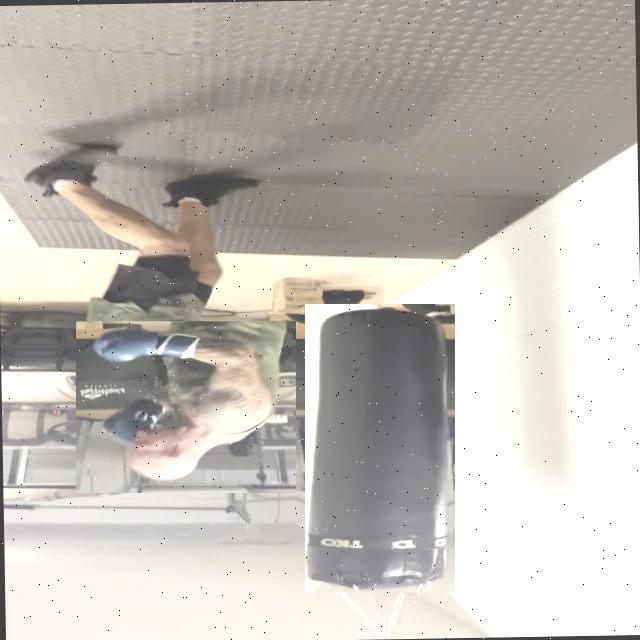punch: (76, 321, 296, 493)
